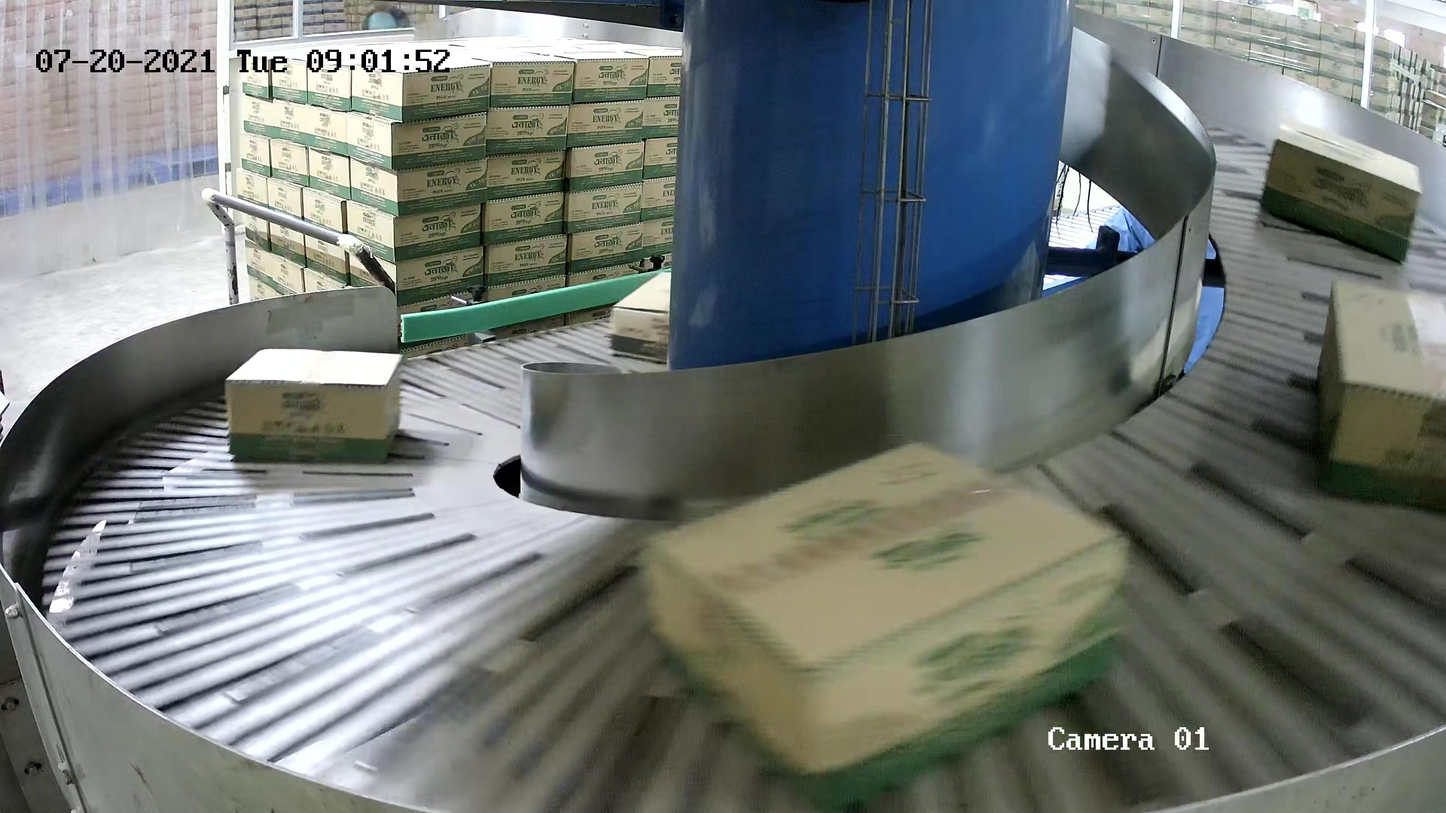Box: (637, 438, 1130, 813), (1313, 276, 1446, 509), (1260, 113, 1423, 263), (223, 345, 404, 461), (609, 272, 671, 362)
